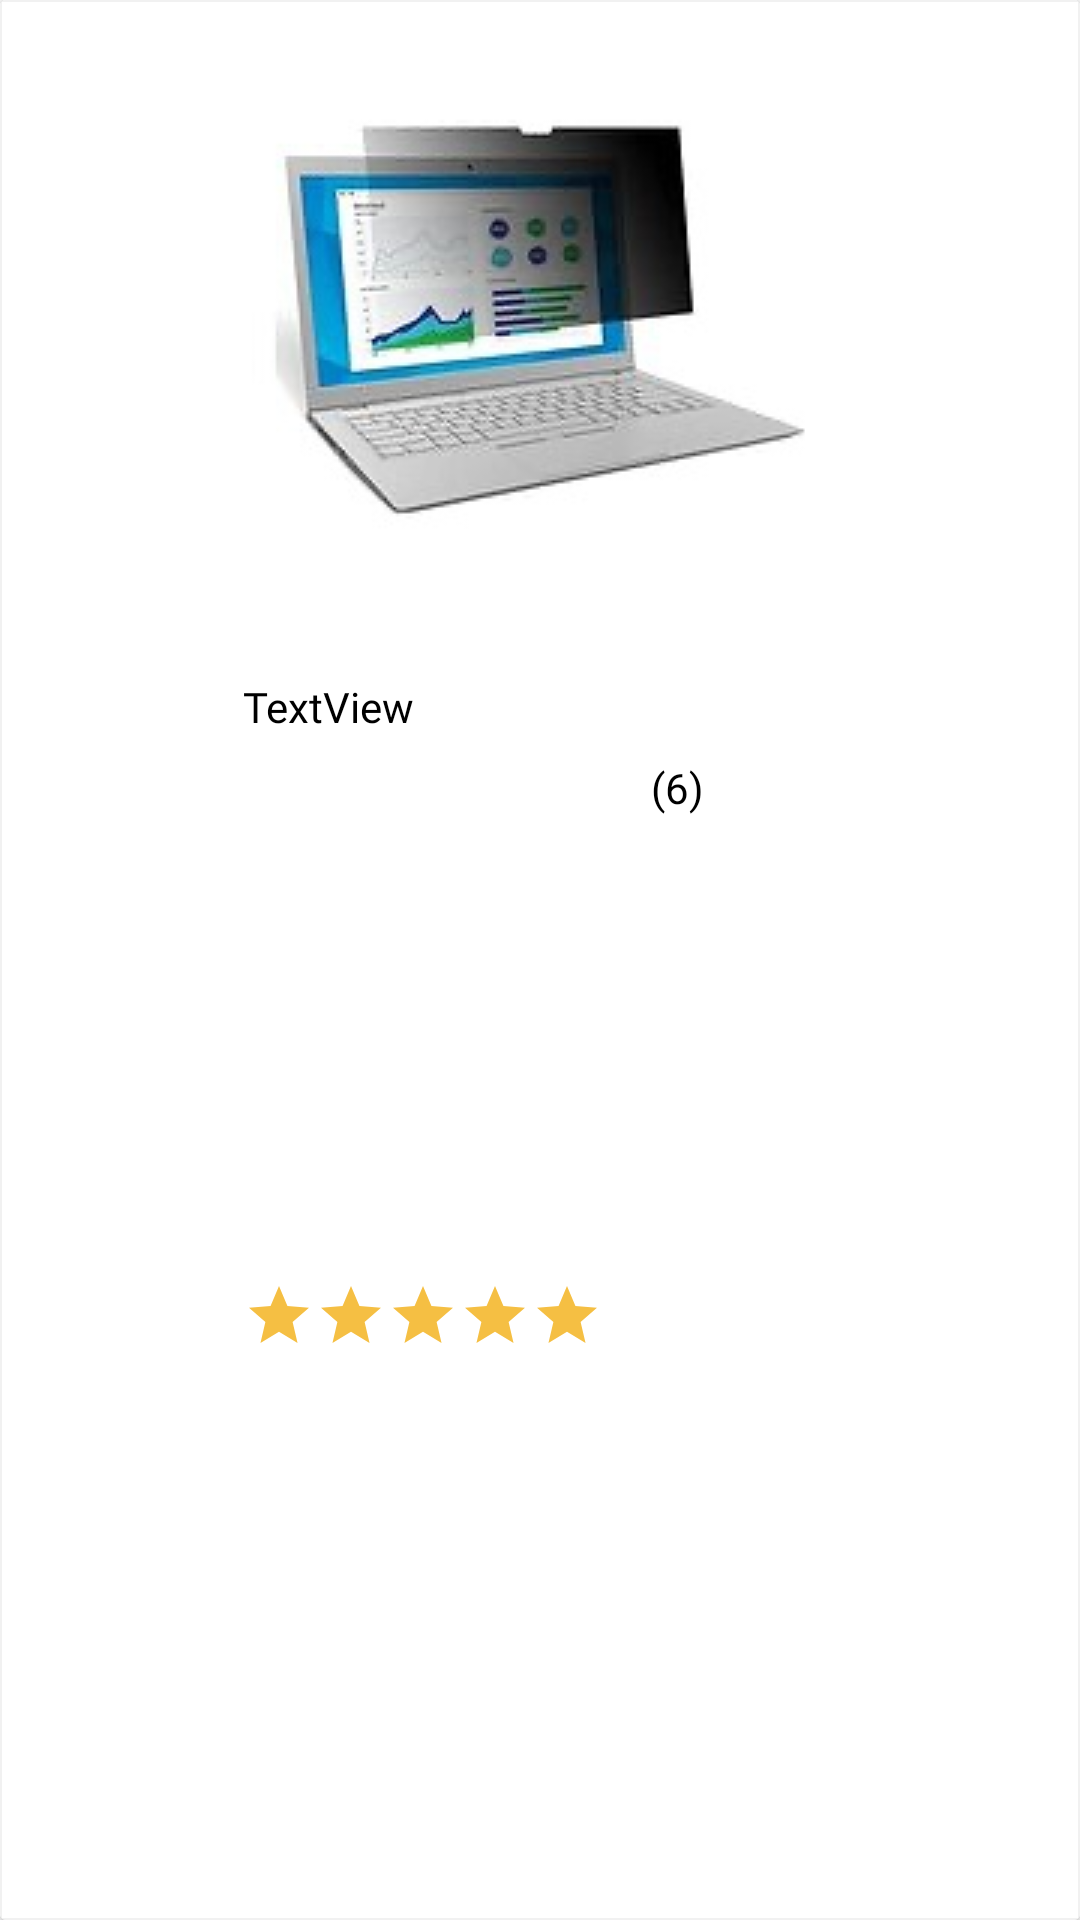

Icon click points for this 1080 × 1920 phone screenshot, format point (x, y):
star full: point (279, 1314), point (351, 1314), point (423, 1314), point (495, 1314), point (567, 1314)
